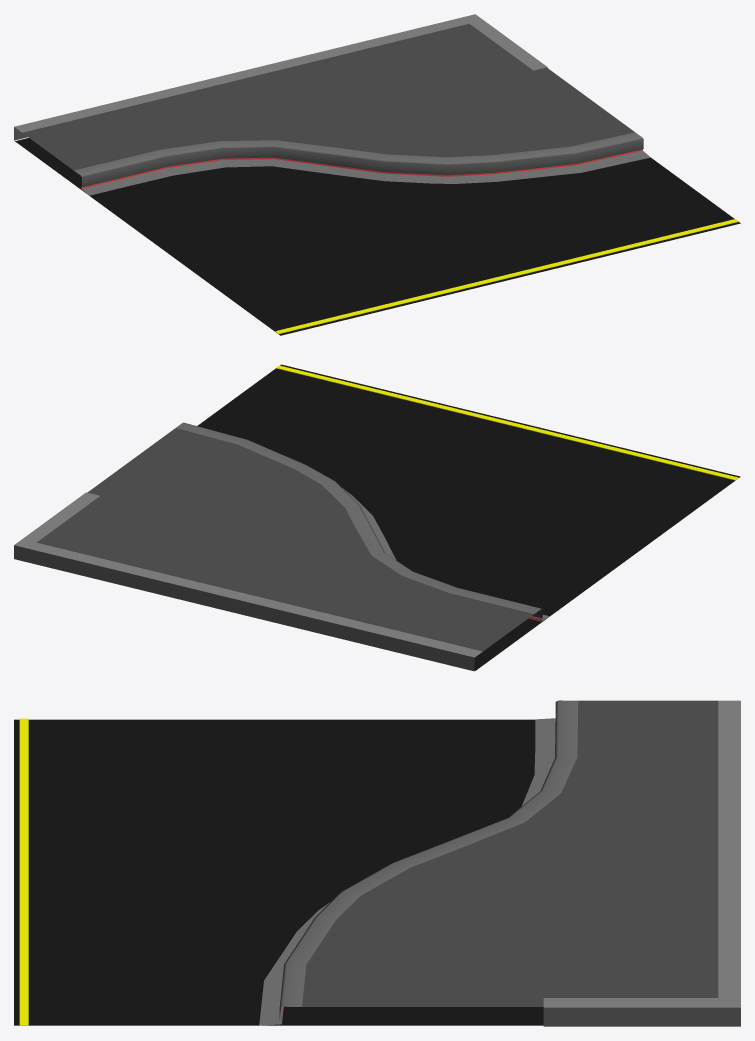
3 renders of one model, top to bottom at view 1: azimuth 30°, elevation 25°; view 2: azimuth 150°, elevation 25°; view 3: azimuth 270°, elevation 25°, orthographic. The views are drawn at different scales.
Parts seen in each view (by area): view 1: W_R_001_8x8_BA_L2; view 2: W_R_001_8x8_BA_L2; view 3: W_R_001_8x8_BA_L2.
Part boxes in pixels (left/top/right/bottom): W_R_001_8x8_BA_L2: left=14, top=14, right=740, bottom=335; W_R_001_8x8_BA_L2: left=14, top=364, right=740, bottom=671; W_R_001_8x8_BA_L2: left=14, top=700, right=740, bottom=1026.
Size of the model in its own units: 8.02 by 0.2321 by 8.02.
